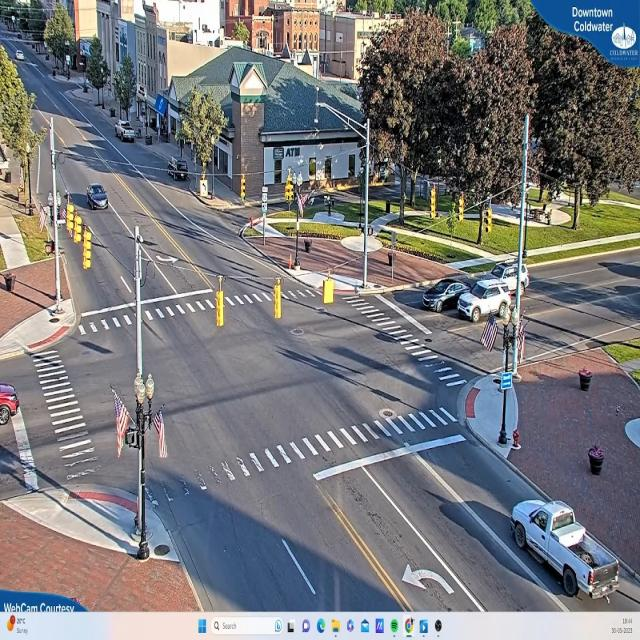car: (510, 496, 620, 600), (456, 287, 514, 322), (421, 280, 470, 312), (484, 264, 531, 296), (1, 384, 22, 422), (87, 184, 109, 210), (117, 122, 137, 144)
